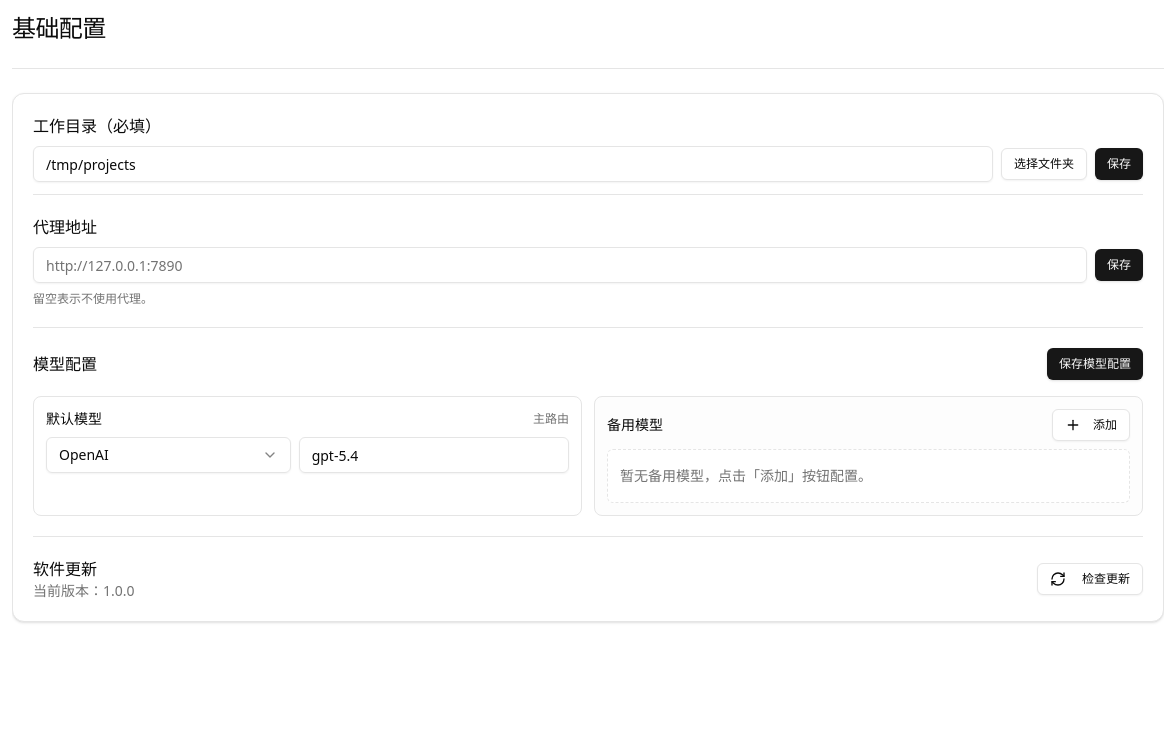
Test: PurfenceConfigPage › adds a fallback row when clicking add
The image size is (1164, 732).
expect the number of fields with placeholder "gpt-5.4" is 1: met, box [299,437,569,473]
Click the button "添加".
click(1091, 425)  # box [1052,409,1130,441]
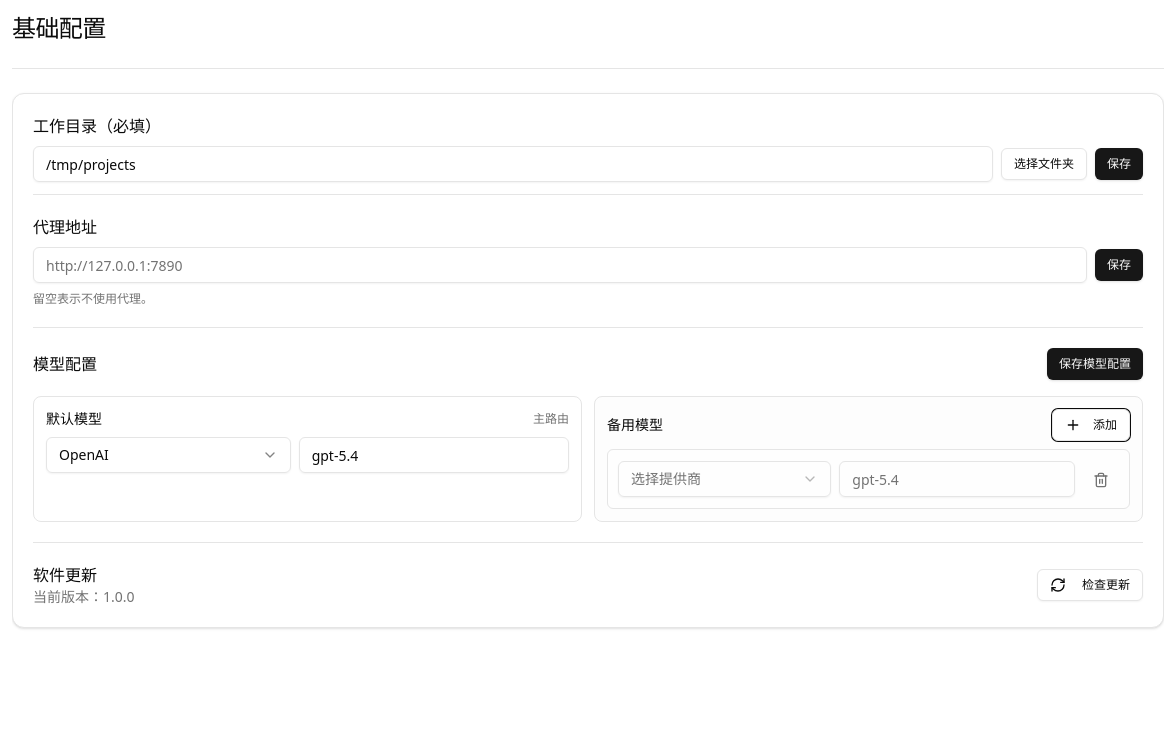
expect the number of fields with placeholder "gpt-5.4" is 2: met, box [299,437,569,473]; [839,461,1075,497]
